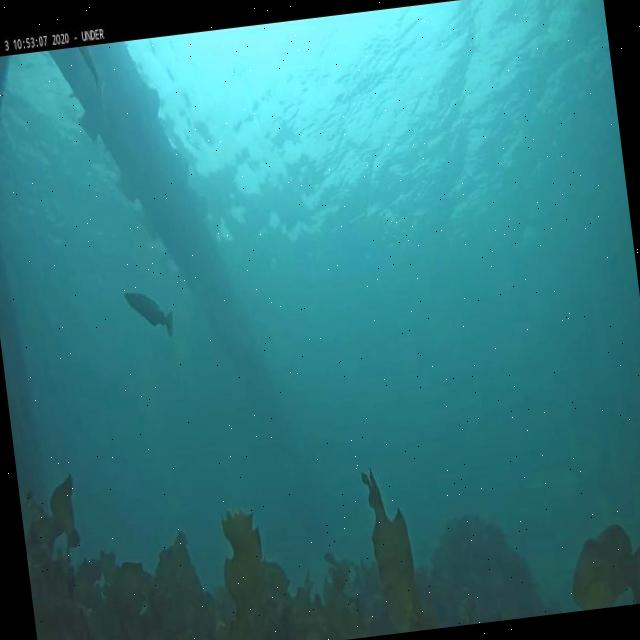fish: (122, 284, 178, 346)
